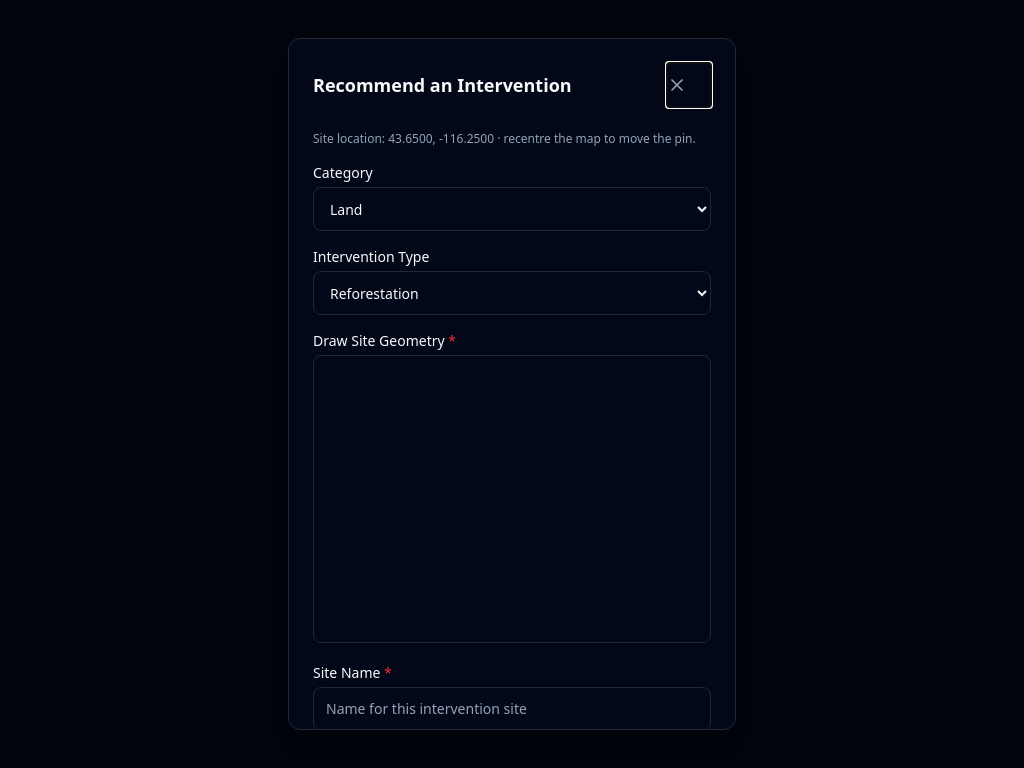
Test: data interventions in community modal › requires collection details before sending a data intervention
This screenshot has width=1024, height=768.
Type "Ridge silvopasture plot" into the field labelled "Site Name *".
click(512, 709); type("Ridge silvopasture plot")  # box x1=313 y1=687 x2=711 y2=731
(page scrolled)
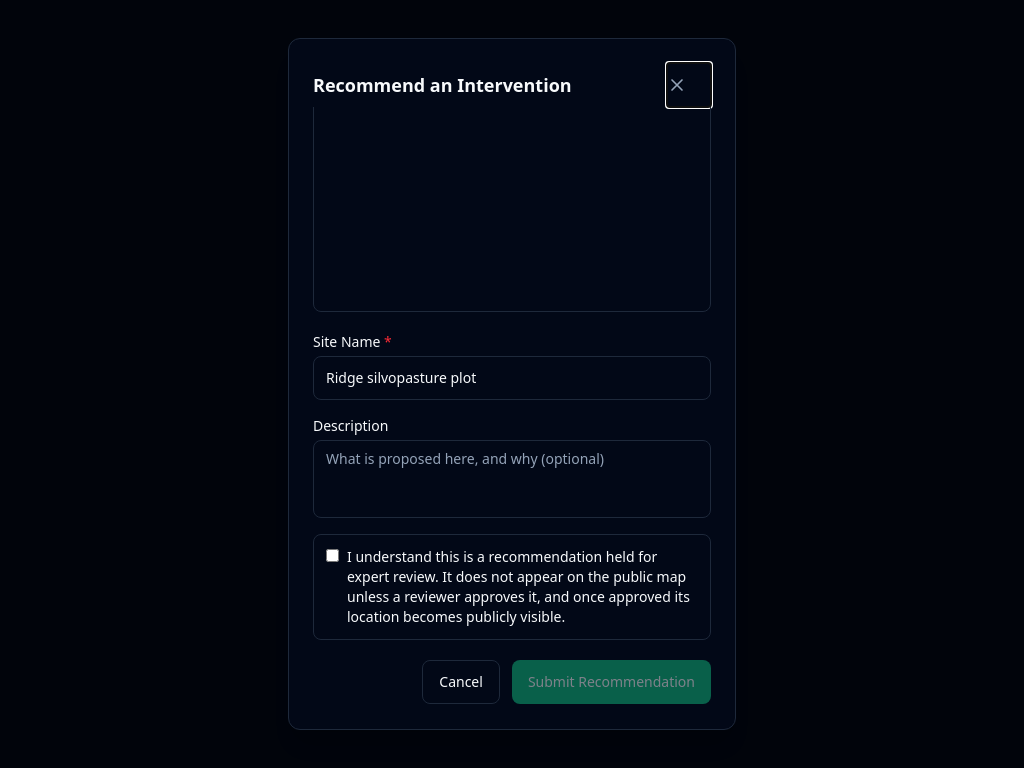
Click the checkbox labelled "I understand this is a recommendation".
click(332, 556)  # box x1=326 y1=549 x2=339 y2=562
(page scrolled)
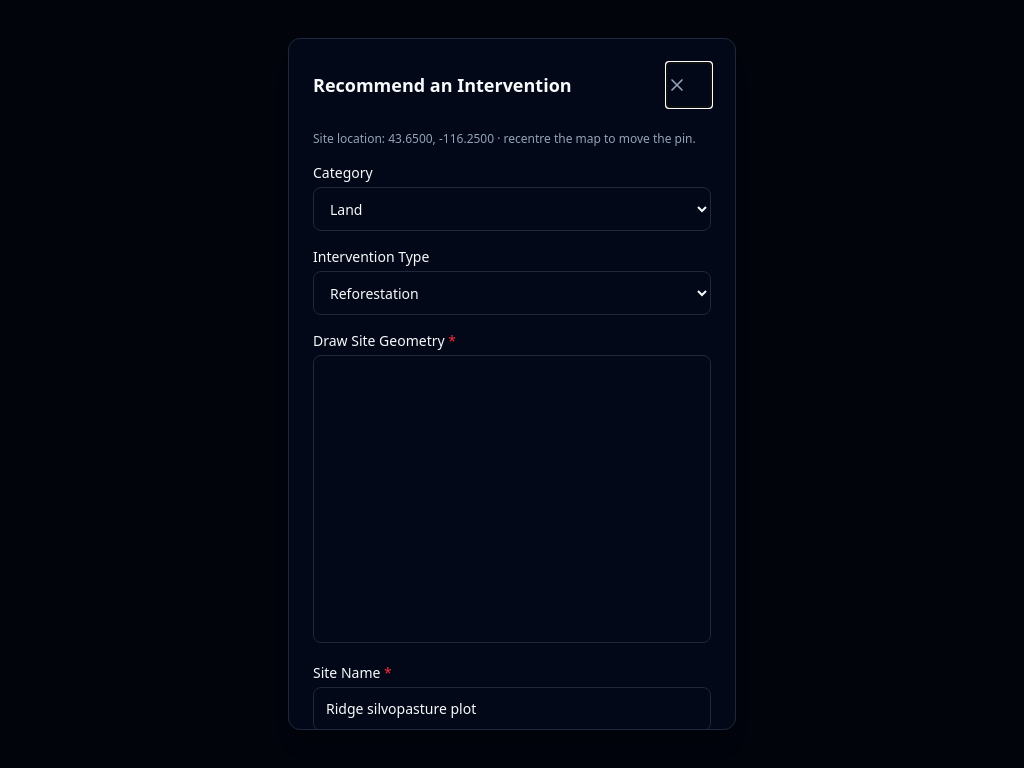
Select "Data" in the dropdown labelled "Category" at x=512, y=209, box x1=313 y1=187 x2=711 y2=231
(page scrolled)
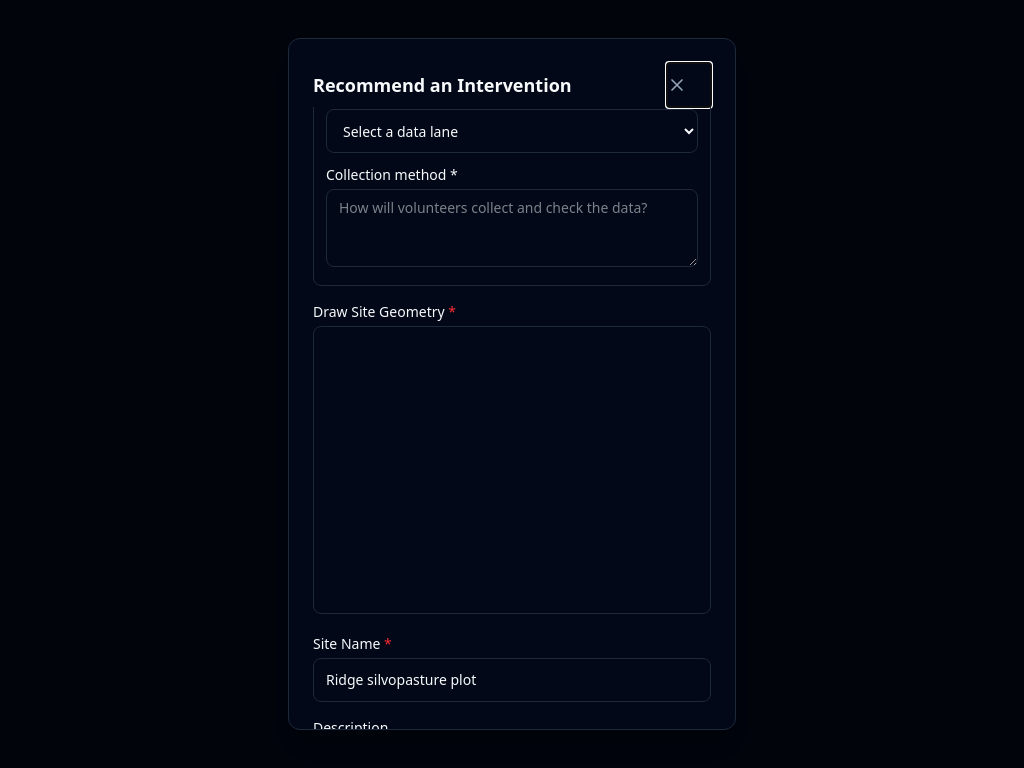
Submit the form named "Submit Recommendation"
(page scrolled)
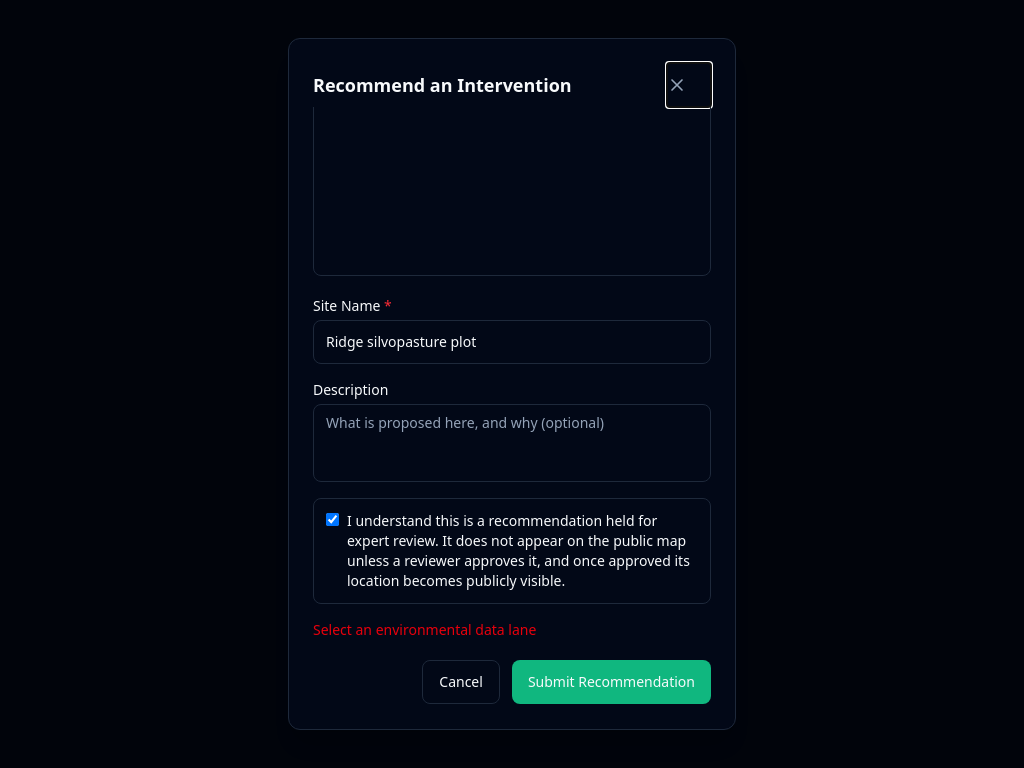
Check: the message reads "Select an environmental data lane", box x1=313 y1=620 x2=536 y2=639
